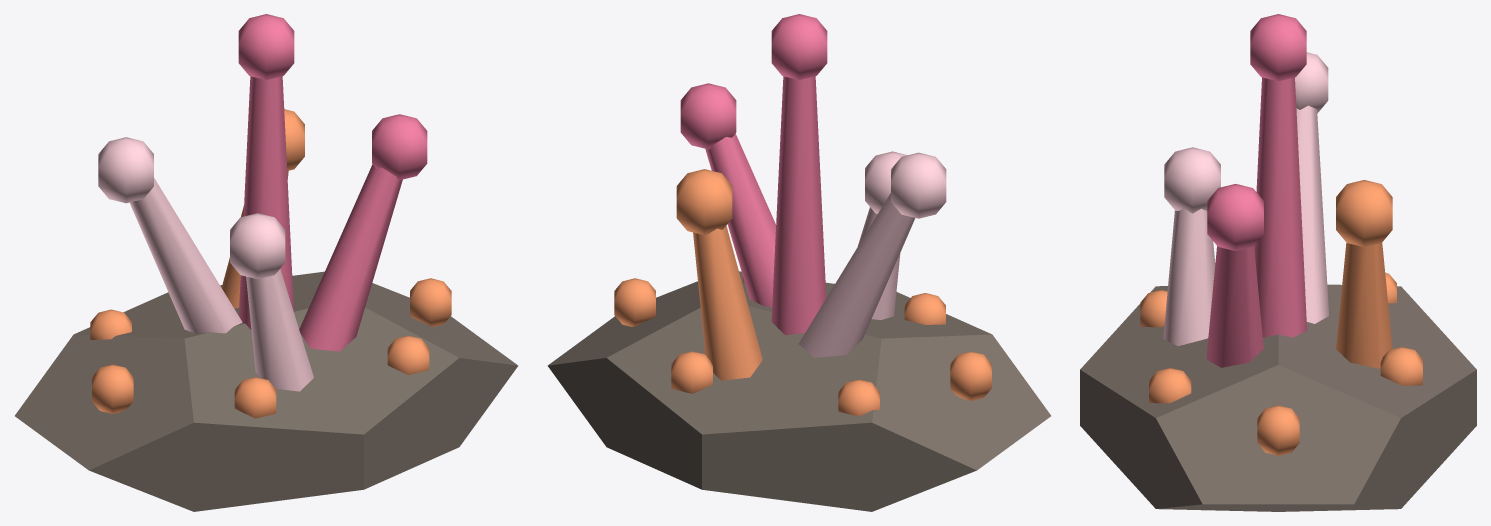
3 renders of one model, left to right at view 1: azimuth 30°, elevation 25°; view 2: azimuth 150°, elevation 25°; view 3: azimuth 270°, elevation 25°, orthographic.
Size of the model in its own units: 2.35 by 2.34 by 1.85.
